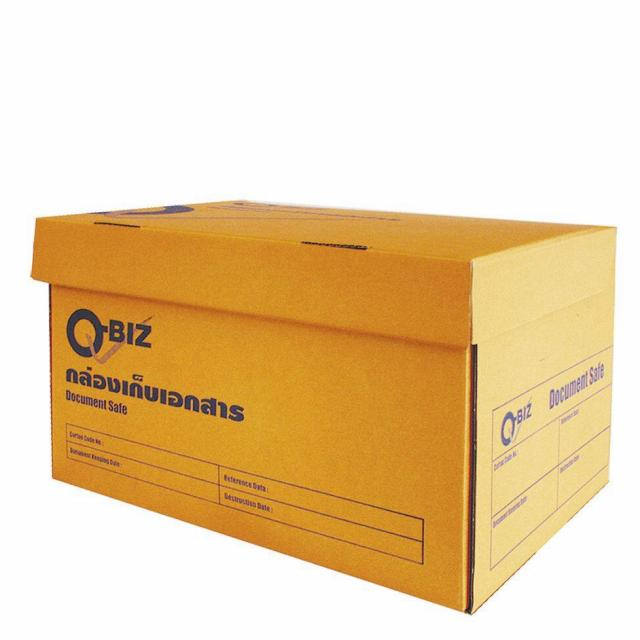box: (24, 149, 626, 622)
